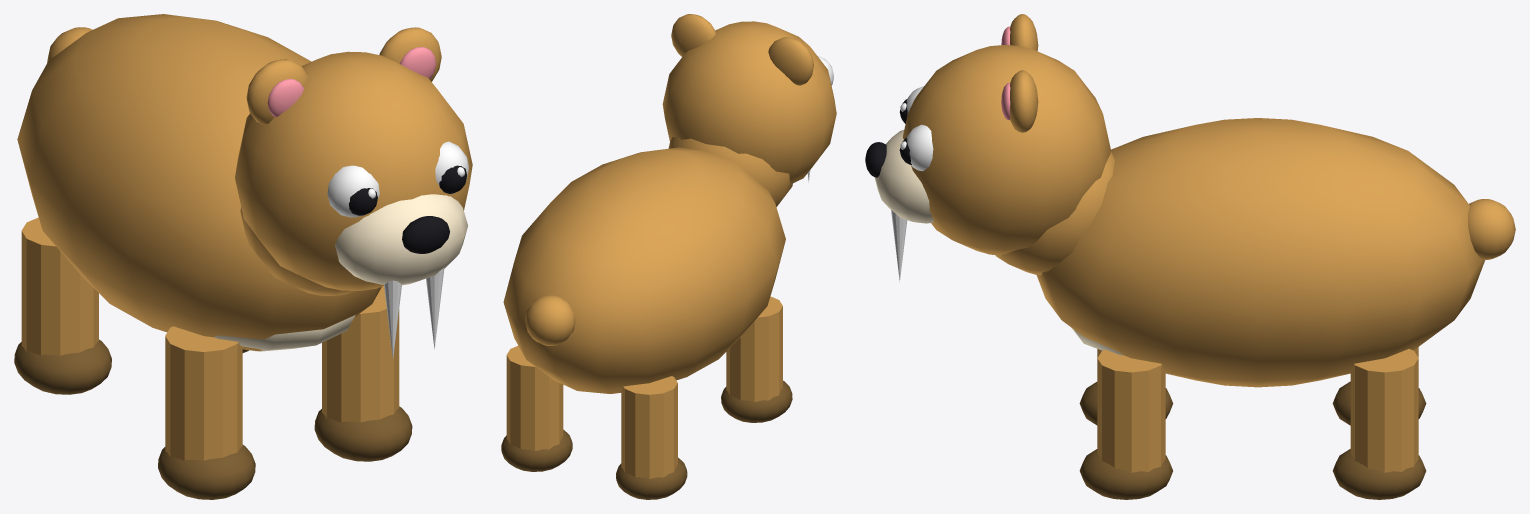
The picture shows the model from 3 angles, left to right: view 1: azimuth 30°, elevation 25°; view 2: azimuth 150°, elevation 25°; view 3: azimuth 270°, elevation 25°; orthographic projection. The views are drawn at different scales.
Parts seen in each view (by area): view 1: Saber Cat; view 2: Saber Cat; view 3: Saber Cat.
Boxes of the visible parts, x1,y1,x2,y2 form: Saber Cat: (14, 14, 472, 499); Saber Cat: (501, 14, 836, 499); Saber Cat: (865, 14, 1515, 499).
Size of the model in its own units: 1.7 by 2.69 by 3.82.
1 material, 1 textured.
